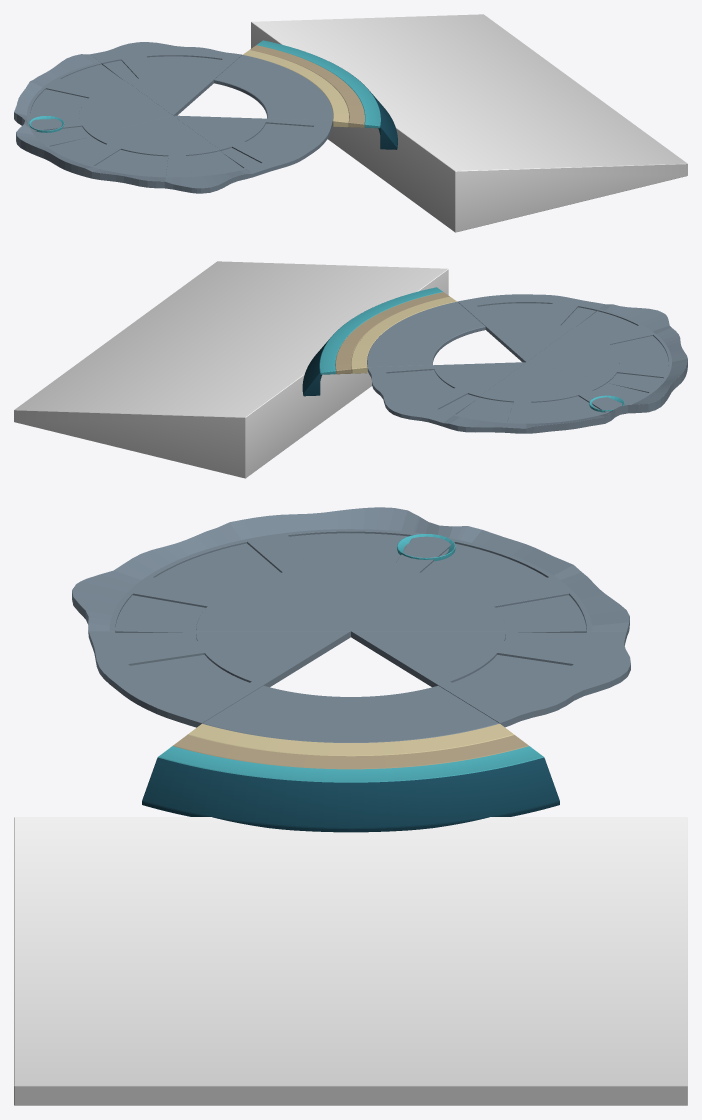
The model's file is DD_Terrain.fbx.
The picture shows the model from 3 angles, top to bottom: view 1: azimuth 30°, elevation 25°; view 2: azimuth 150°, elevation 25°; view 3: azimuth 270°, elevation 25°; orthographic projection. The views are drawn at different scales.
Parts seen in each view (by area): view 1: DD_Terrain_OceanFloor.001, DD_Terrain_Island_SW.001, DD_Terrain_Island_NW.001, DD_Terrain_Island_NE.001, DD_Terrain_Island_SE.001, DD_Terrain_Foreshore.001, DD_Terrain_BeachShallow.001, DD_Terrain_BeachWet.001, DD_Terrain_BeachDry.001, DD_Terrain_ShelfLip.001; view 2: DD_Terrain_OceanFloor.001, DD_Terrain_Island_NW.001, DD_Terrain_Island_SW.001, DD_Terrain_Island_NE.001, DD_Terrain_Island_SE.001, DD_Terrain_Foreshore.001, DD_Terrain_BeachShallow.001, DD_Terrain_BeachWet.001, DD_Terrain_BeachDry.001, DD_Terrain_ShelfLip.001; view 3: DD_Terrain_OceanFloor.001, DD_Terrain_Island_SW.001, DD_Terrain_Island_NW.001, DD_Terrain_ShelfLip.001, DD_Terrain_Island_NE.001, DD_Terrain_Island_SE.001, DD_Terrain_Foreshore.001, DD_Terrain_BeachShallow.001, DD_Terrain_BeachWet.001, DD_Terrain_BeachDry.001.
Boxes of the visible parts, left/top/right/bottom form: DD_Terrain_OceanFloor.001: left=251, top=14, right=687, bottom=232; DD_Terrain_Island_SW.001: left=31, top=115, right=252, bottom=193; DD_Terrain_Island_NW.001: left=14, top=54, right=172, bottom=153; DD_Terrain_Island_NE.001: left=90, top=42, right=241, bottom=115; DD_Terrain_Island_SE.001: left=173, top=115, right=332, bottom=177; DD_Terrain_Foreshore.001: left=214, top=55, right=333, bottom=120; DD_Terrain_BeachShallow.001: left=256, top=40, right=380, bottom=128; DD_Terrain_BeachWet.001: left=250, top=45, right=364, bottom=127; DD_Terrain_BeachDry.001: left=243, top=50, right=348, bottom=127; DD_Terrain_ShelfLip.001: left=329, top=61, right=397, bottom=149; DD_Terrain_OceanFloor.001: left=14, top=261, right=448, bottom=478; DD_Terrain_Island_NW.001: left=443, top=362, right=667, bottom=433; DD_Terrain_Island_SW.001: left=526, top=304, right=687, bottom=399; DD_Terrain_Island_NE.001: left=367, top=362, right=525, bottom=426; DD_Terrain_Island_SE.001: left=457, top=294, right=604, bottom=362; DD_Terrain_Foreshore.001: left=367, top=301, right=485, bottom=367; DD_Terrain_BeachShallow.001: left=319, top=287, right=442, bottom=374; DD_Terrain_BeachWet.001: left=335, top=292, right=449, bottom=374; DD_Terrain_BeachDry.001: left=351, top=297, right=456, bottom=373; DD_Terrain_ShelfLip.001: left=302, top=307, right=372, bottom=396; DD_Terrain_OceanFloor.001: left=14, top=817, right=687, bottom=1105; DD_Terrain_Island_SW.001: left=72, top=509, right=350, bottom=633; DD_Terrain_Island_NW.001: left=351, top=507, right=629, bottom=636; DD_Terrain_ShelfLip.001: left=142, top=757, right=559, bottom=832; DD_Terrain_Island_NE.001: left=351, top=631, right=630, bottom=727; DD_Terrain_Island_SE.001: left=88, top=631, right=350, bottom=727; DD_Terrain_Foreshore.001: left=202, top=685, right=499, bottom=742; DD_Terrain_BeachShallow.001: left=157, top=746, right=544, bottom=782; DD_Terrain_BeachWet.001: left=173, top=735, right=528, bottom=769; DD_Terrain_BeachDry.001: left=187, top=723, right=514, bottom=756.
Size of the model in its own units: 9.44 by 1.48 by 6.
